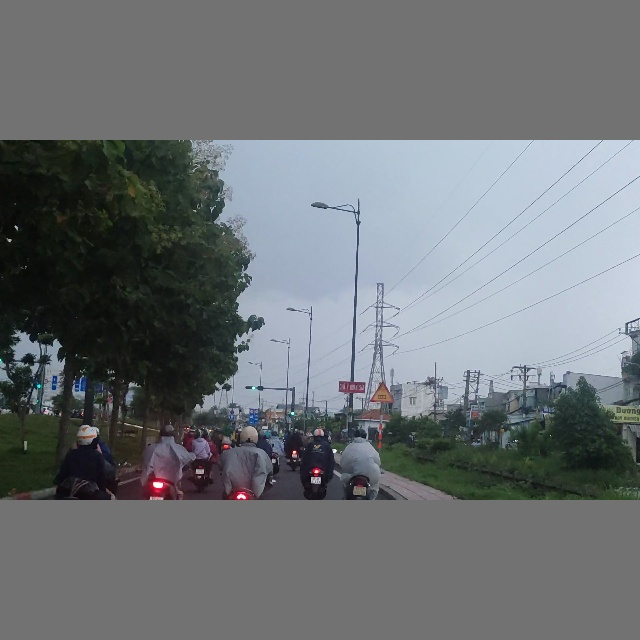W.210: (371, 382, 394, 402)
